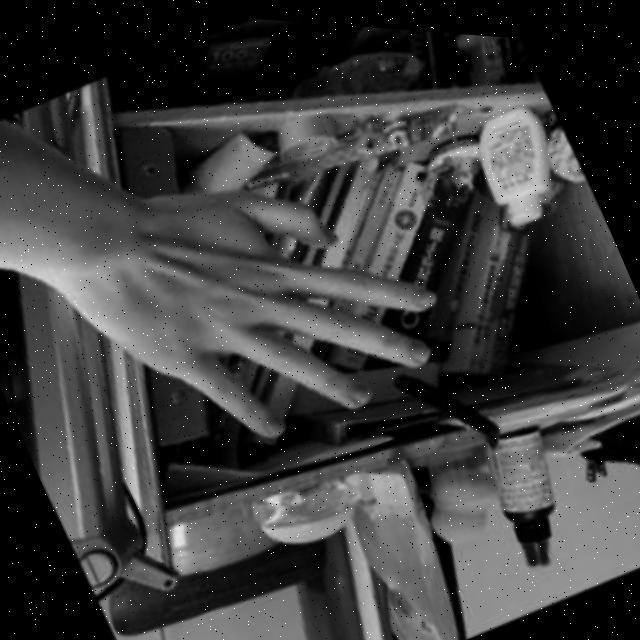hand: (44, 96, 469, 504)
